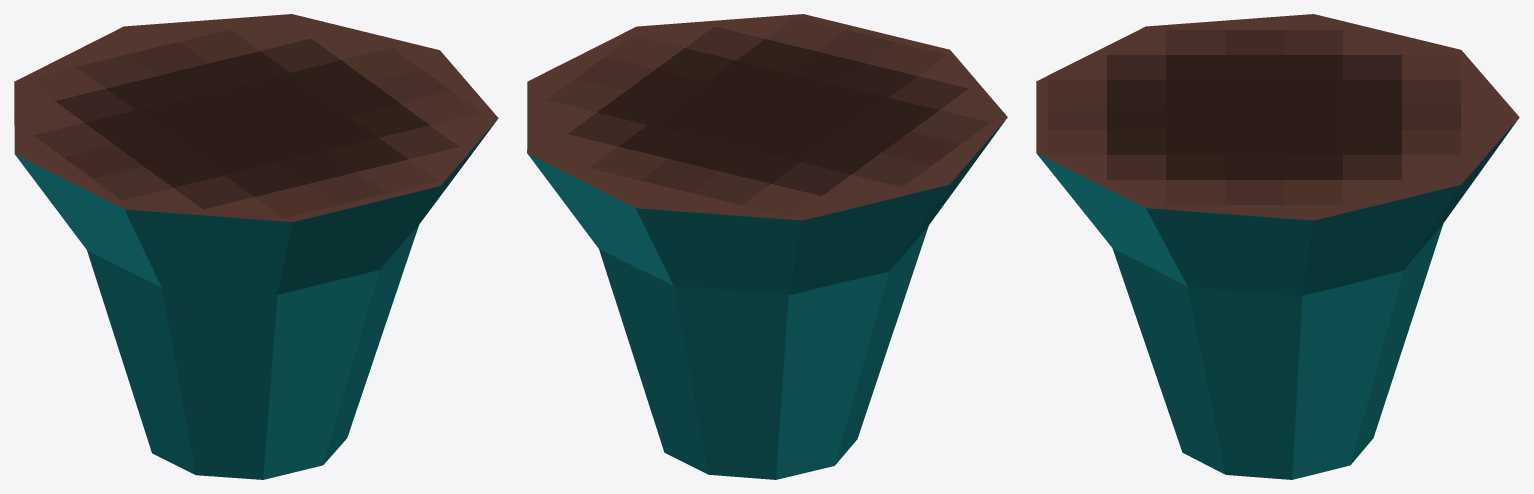
The model's file is Vase.fbx.
The picture shows the model from 3 angles, left to right: view 1: azimuth 30°, elevation 25°; view 2: azimuth 150°, elevation 25°; view 3: azimuth 270°, elevation 25°; orthographic projection.
Parts seen in each view (by area): view 1: cylinder, cylinder_1; view 2: cylinder, cylinder_1; view 3: cylinder, cylinder_1.
Part boxes in pixels (<box>): cylinder: <box>14,14,498,295</box>; cylinder_1: <box>87,225,418,479</box>; cylinder: <box>527,14,1007,295</box>; cylinder_1: <box>599,226,928,479</box>; cylinder: <box>1036,14,1519,295</box>; cylinder_1: <box>1112,223,1443,479</box>.
Size of the model in its own units: 51.8 by 37.5 by 51.2.
1 material, 1 textured.
